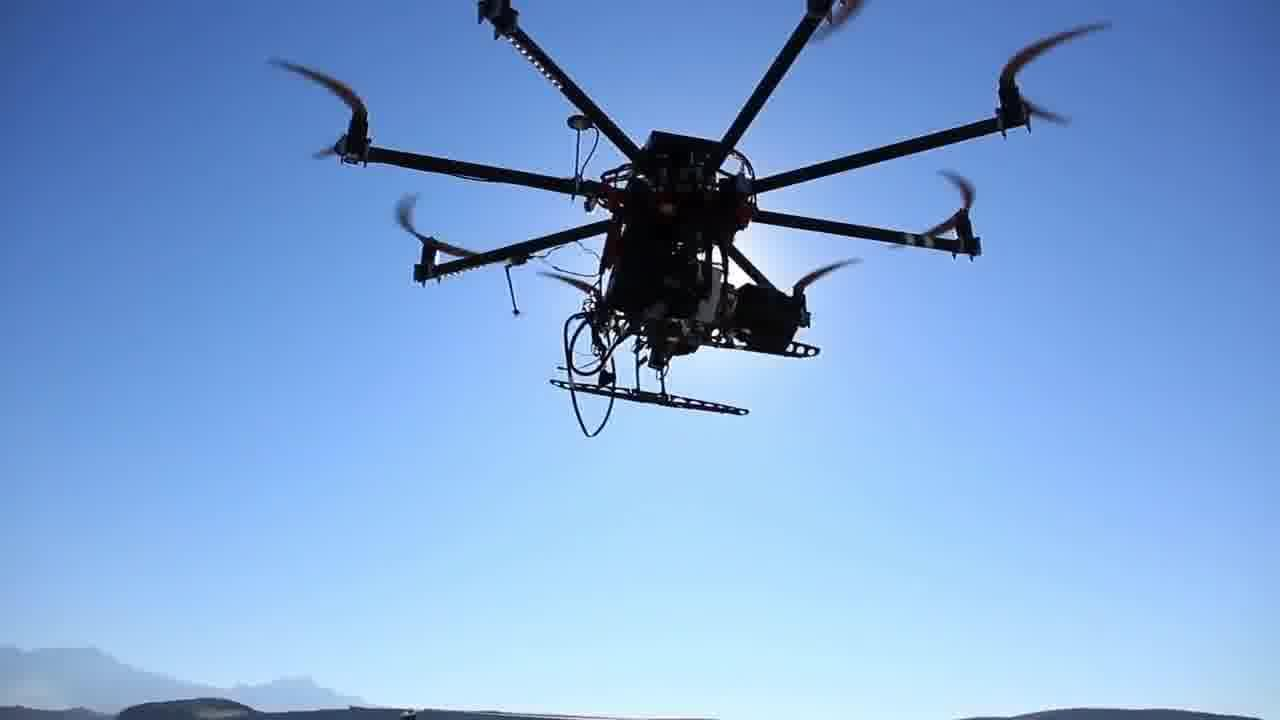Drone: (252, 0, 1132, 450)
